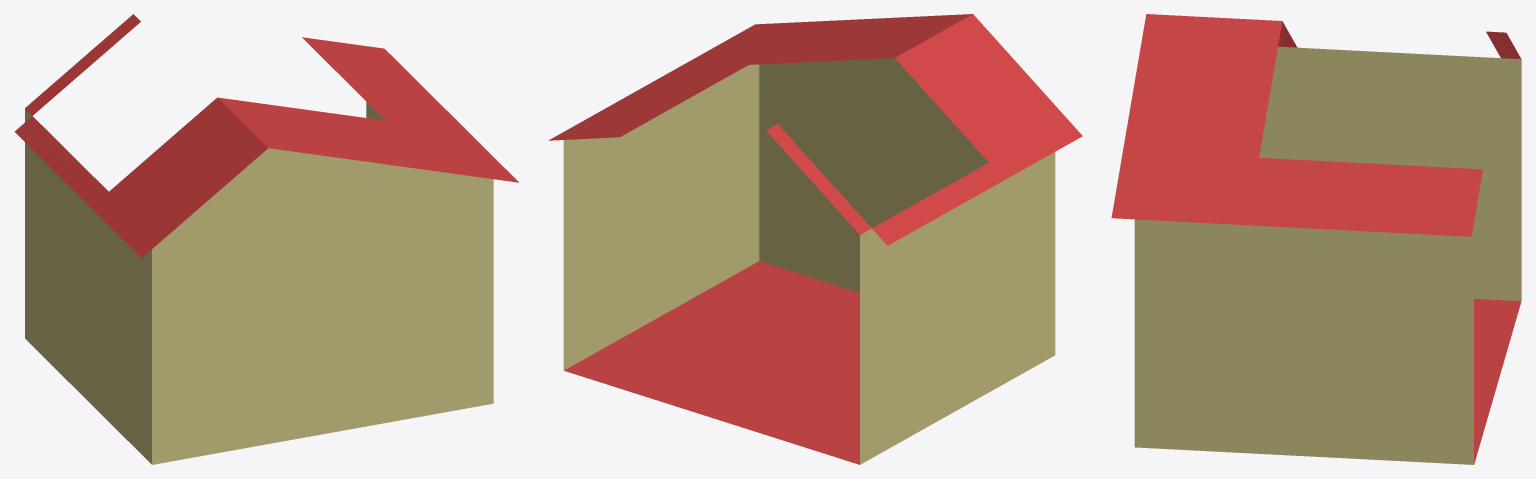
3 renders of one model, left to right at view 1: azimuth 30°, elevation 25°; view 2: azimuth 150°, elevation 25°; view 3: azimuth 270°, elevation 25°, orthographic. The views are drawn at different scales.
Bounding box in the file's own units: 11.39 × 9.88 × 8.53.
